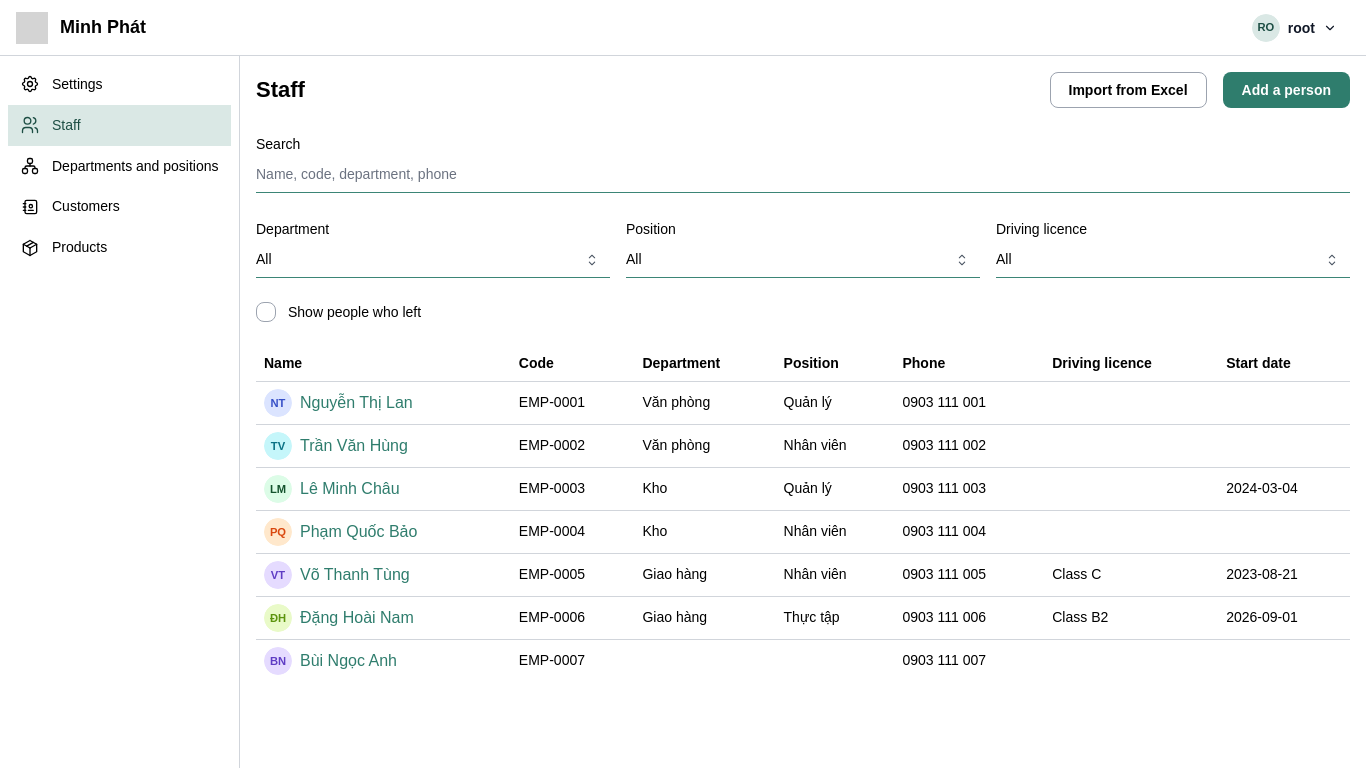
Test: the staff list › The staff list shows each person’s name, code, department, position and phone, in code order; people who left are hidden, and a filter shows them
Check: the text "Hoàng Gia Huy" is not shown
Click the checkbox labelled "Show people who left" at (266,312), box [256,302,276,322]
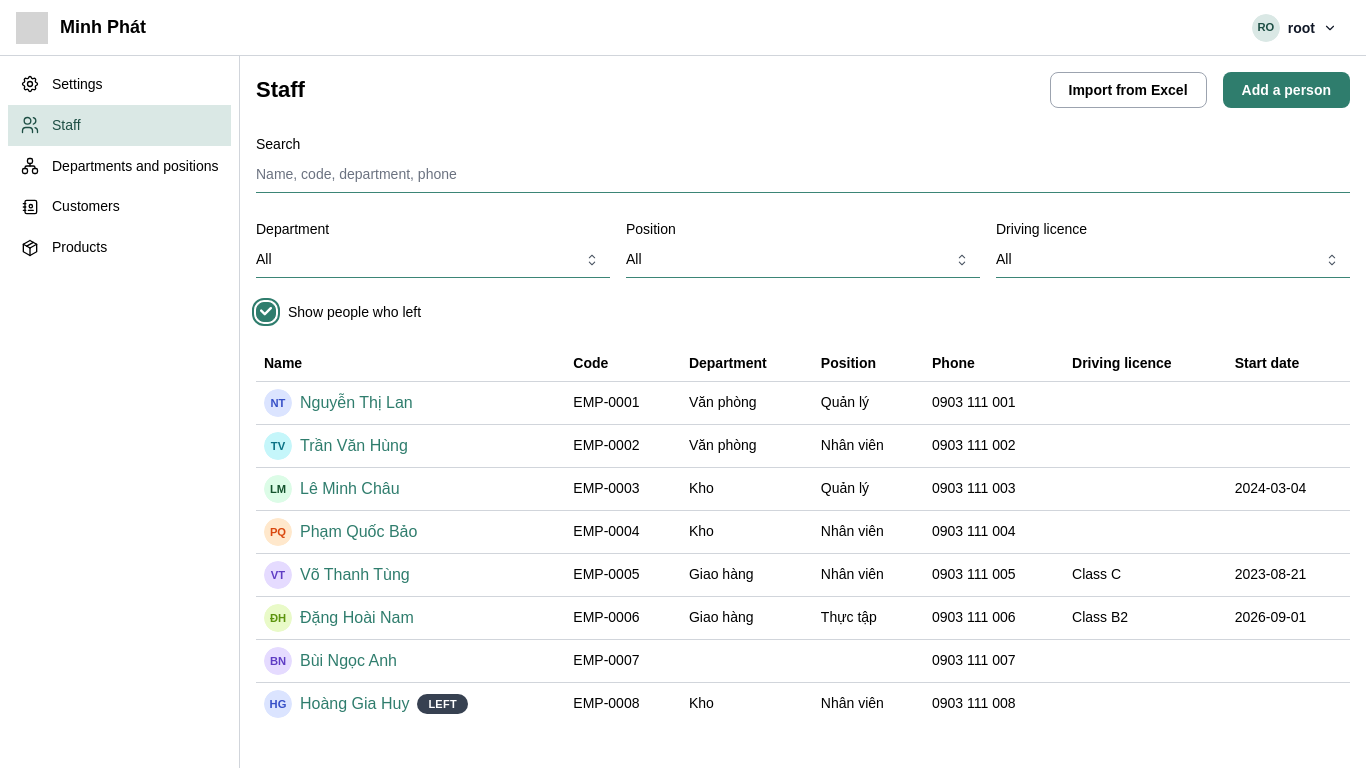
Check: the text "Left" is shown, box [428,695,457,713]
Check: the number of rows is 9
